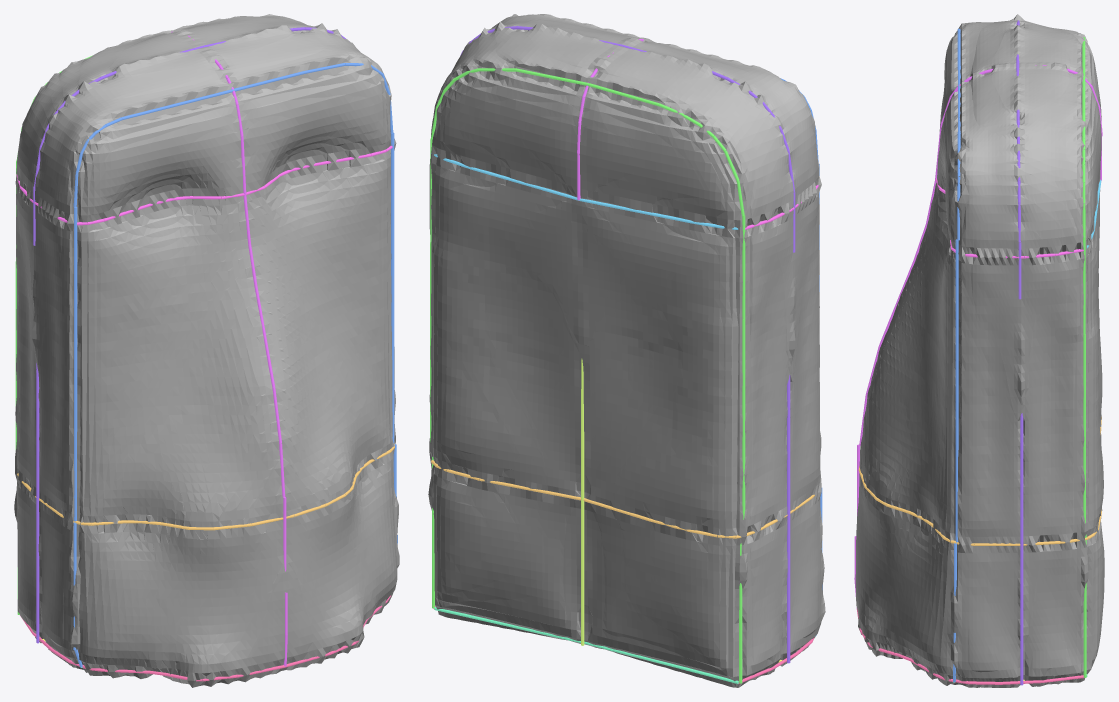
The picture shows the model from 3 angles, left to right: view 1: azimuth 30°, elevation 25°; view 2: azimuth 150°, elevation 25°; view 3: azimuth 270°, elevation 25°; orthographic projection. The views are drawn at different scales.
Bounding box in the file's own units: 0.5052 × 0.8136 × 0.3326.
